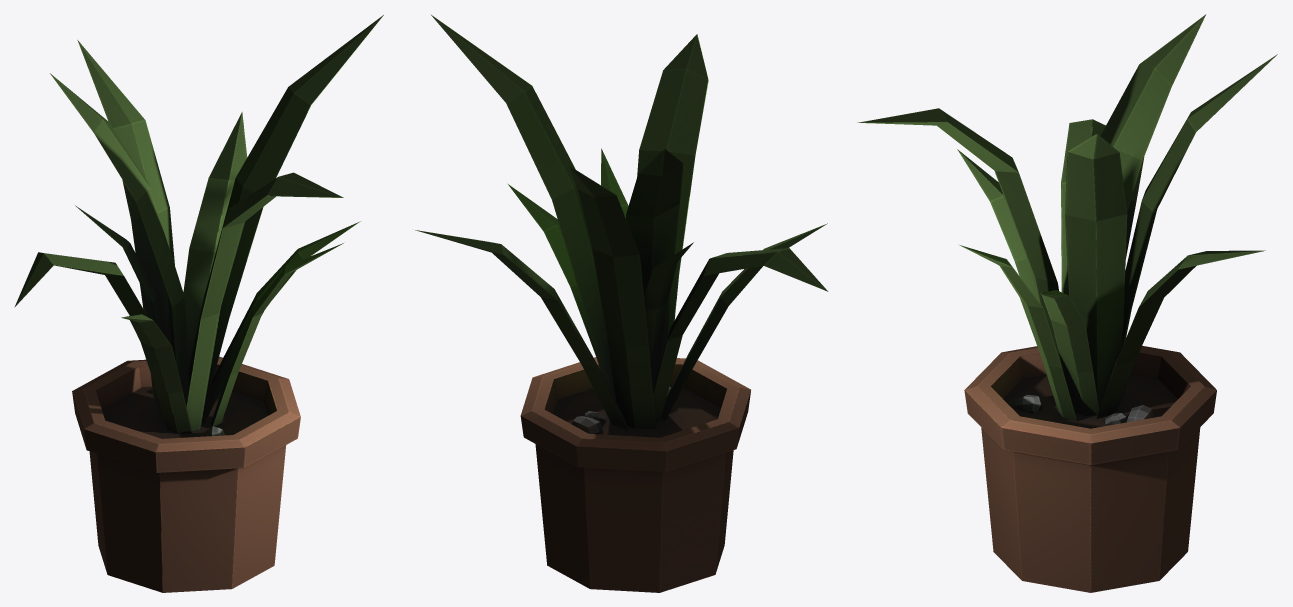
Rendered from planta1_h.glb.
3 renders of one model, left to right at view 1: azimuth 30°, elevation 25°; view 2: azimuth 150°, elevation 25°; view 3: azimuth 270°, elevation 25°, orthographic. The views are drawn at different scales.
Visible parts, largest first — view 1: Houseplant_mesh; view 2: Houseplant_mesh; view 3: Houseplant_mesh.
Part boxes in pixels (<box>): Houseplant_mesh: <box>14,15,383,592</box>; Houseplant_mesh: <box>415,15,828,592</box>; Houseplant_mesh: <box>857,14,1277,592</box>.
Size of the model in its own units: 4.85 by 5.93 by 4.34.
Materials: 1 (1 with a texture image).
